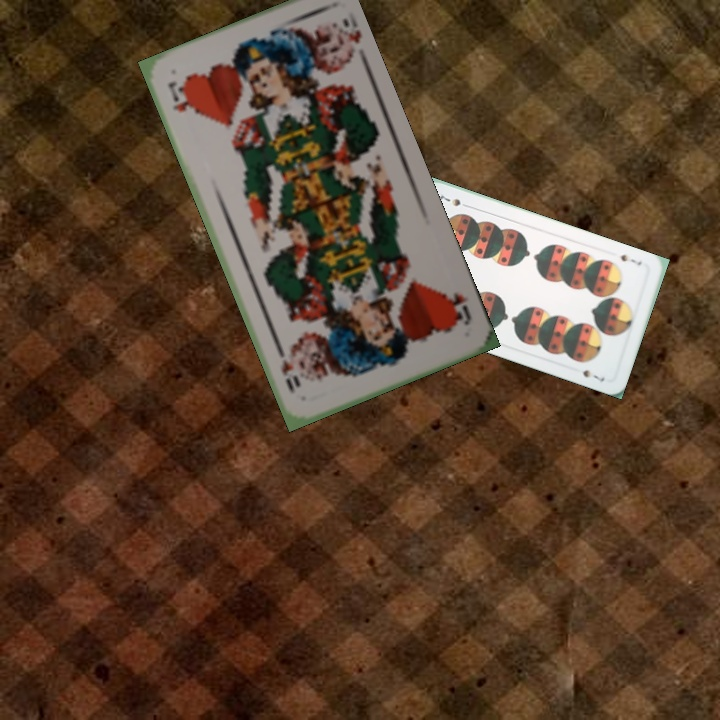HO: (440, 288, 474, 328), (164, 77, 193, 115)
S7: (617, 250, 644, 268)
